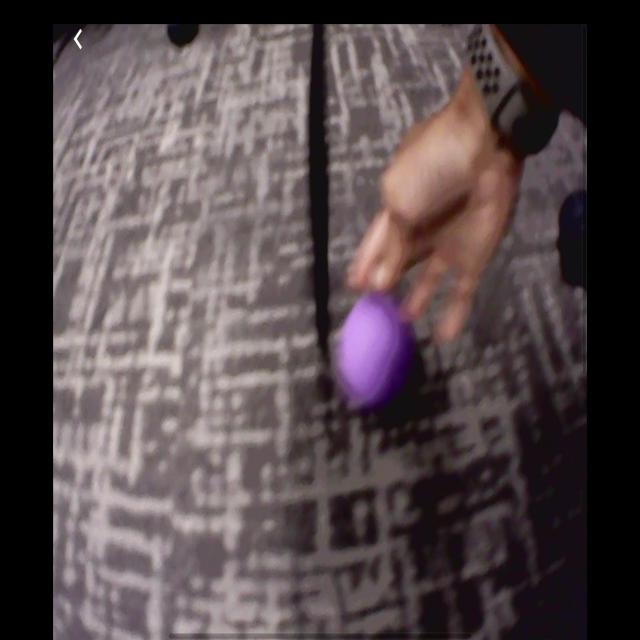ball: (335, 302, 405, 407)
